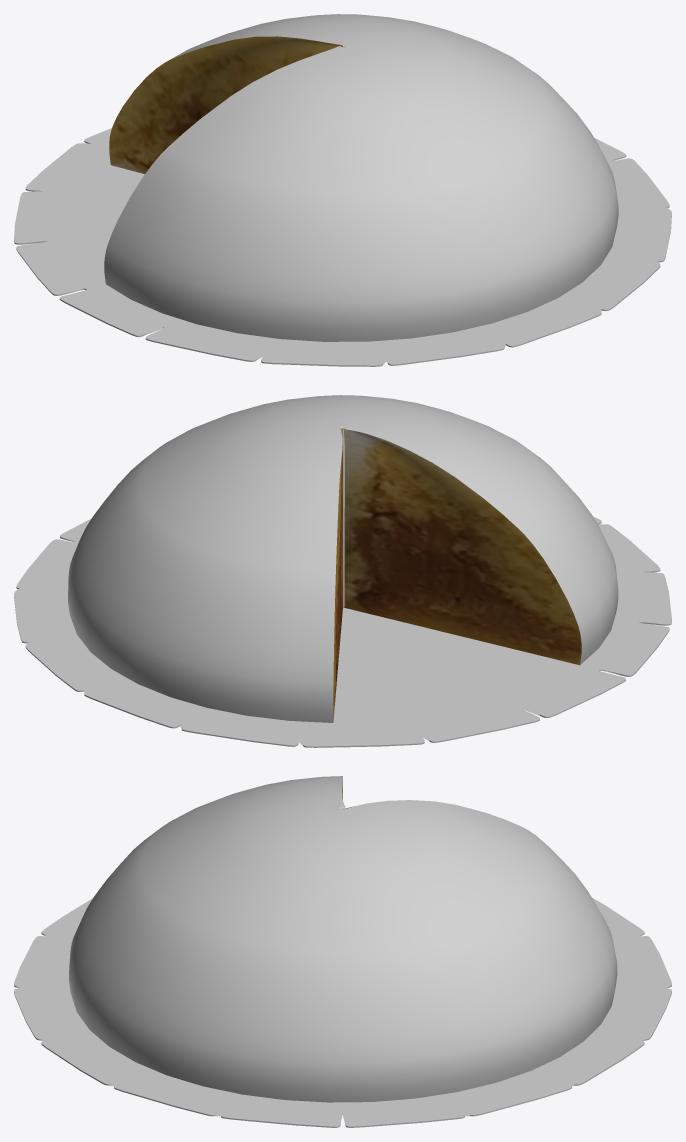
The model's file is sacripantina.fbx.
3 renders of one model, top to bottom at view 1: azimuth 30°, elevation 25°; view 2: azimuth 150°, elevation 25°; view 3: azimuth 270°, elevation 25°, orthographic.
Parts seen in each view (by area): view 1: main, piatto, f2; view 2: main, piatto, f1, f2; view 3: main, piatto.
Part boxes in pixels (x1=…): main: x1=104, y1=14, x2=618, y2=341; piatto: x1=14, y1=128, x2=671, y2=366; f2: x1=109, y1=36, x2=342, y2=173; main: x1=68, y1=395, x2=618, y2=722; piatto: x1=14, y1=517, x2=671, y2=747; f1: x1=343, y1=428, x2=581, y2=665; f2: x1=333, y1=428, x2=342, y2=721; main: x1=69, y1=776, x2=617, y2=1102; piatto: x1=14, y1=898, x2=671, y2=1127.
Bounding box in the file's own units: 56.24 × 18.91 × 56.24.
